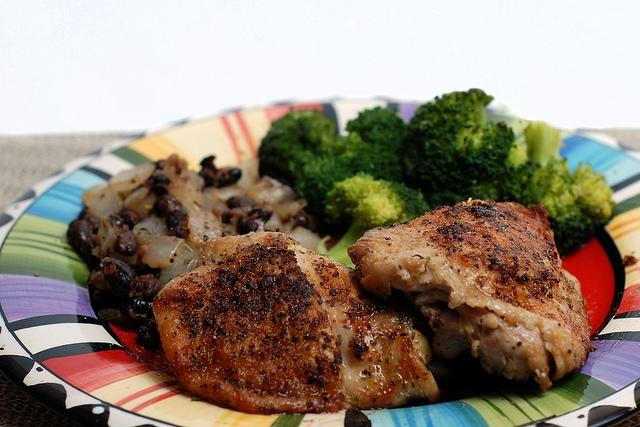broccoli: (495, 121, 618, 259), (396, 88, 528, 210), (316, 170, 410, 268), (258, 108, 350, 186), (303, 153, 355, 245), (346, 106, 410, 159)
onion: (158, 241, 202, 287), (142, 236, 186, 268), (187, 210, 223, 245), (84, 187, 123, 219), (286, 225, 322, 252), (132, 214, 168, 240), (278, 199, 308, 225), (254, 186, 288, 208), (198, 192, 229, 211), (124, 188, 150, 210), (133, 162, 155, 184), (82, 183, 109, 200)
